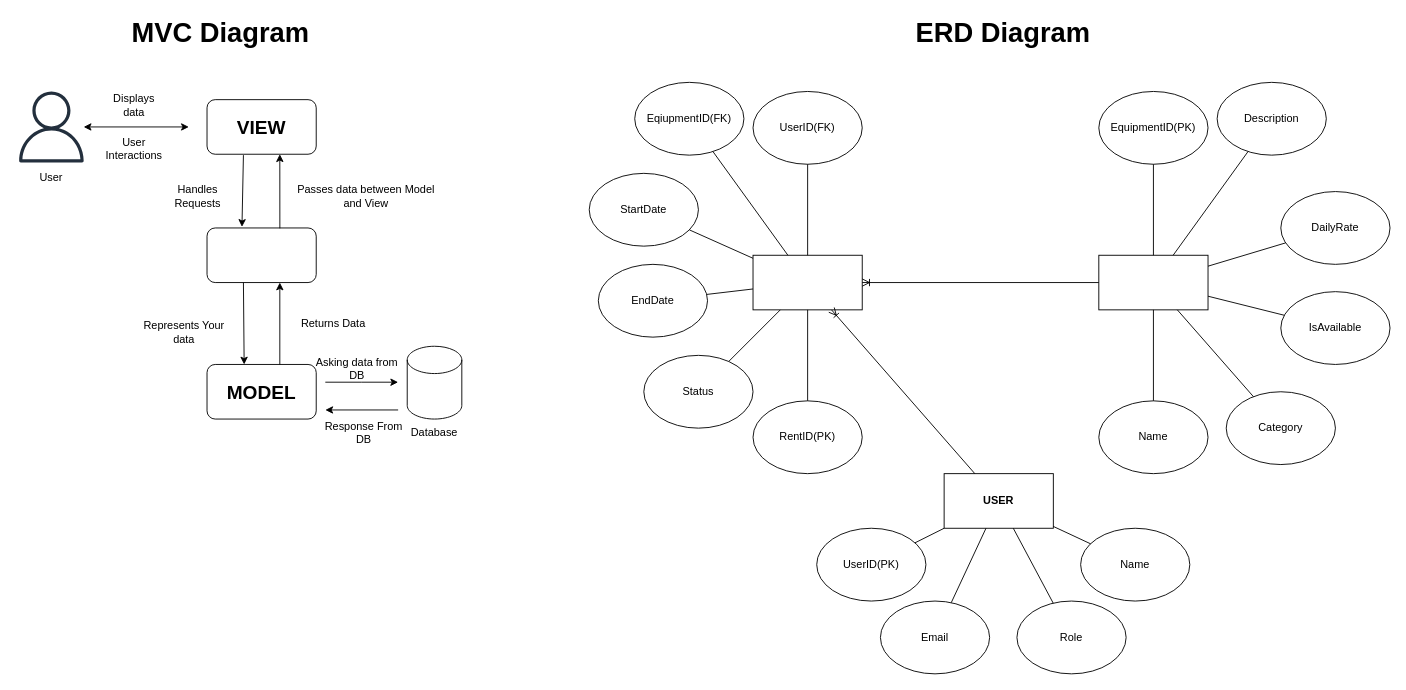
Image size: 1406x690. Some labels were removed from this diagram. Each missing label, with the centre of its shape:
"CONTROLLER" goes at [261,255].
"EQUIPMENT" goes at [1153,282].
"RentalRequest" goes at [807,282].
